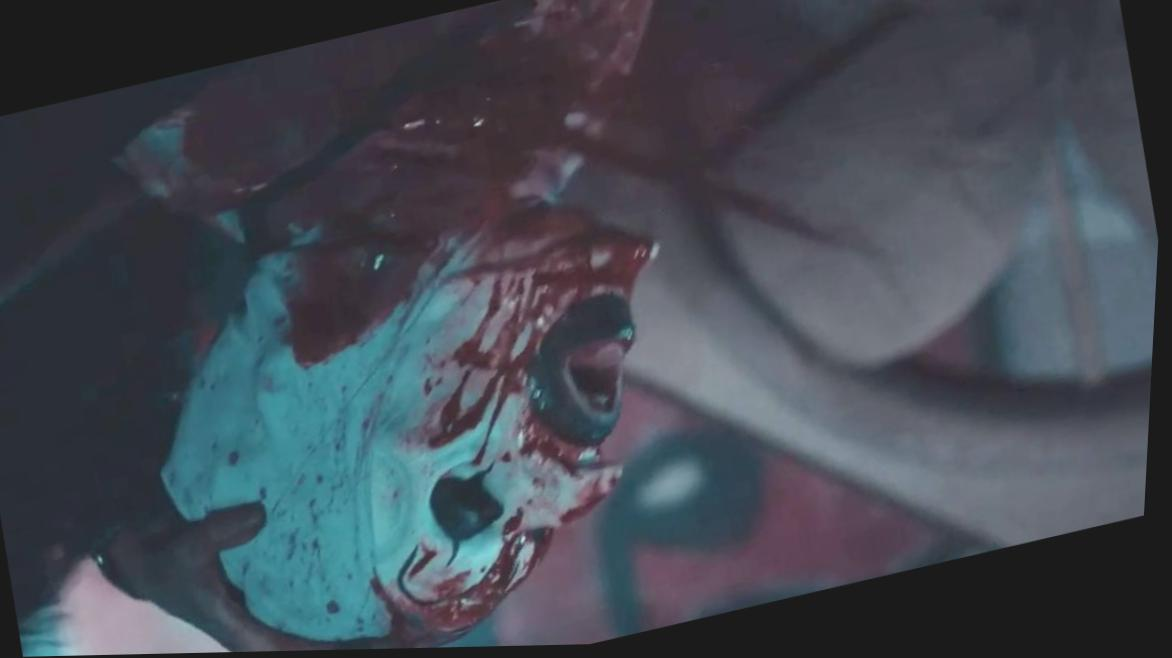Fire: (125, 0, 657, 653)
